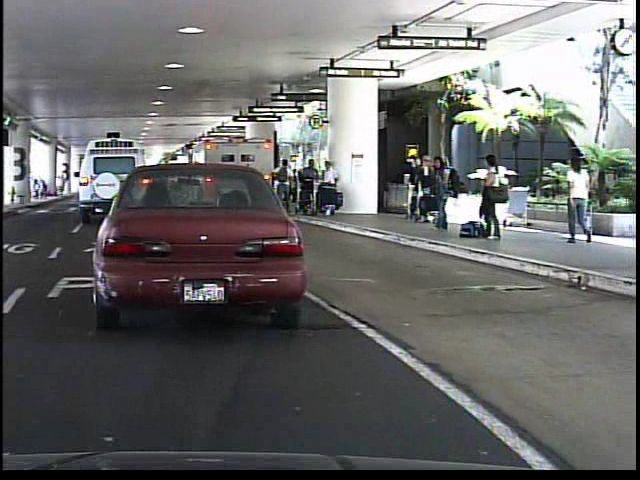person: (558, 153, 596, 246), (473, 150, 502, 242)
